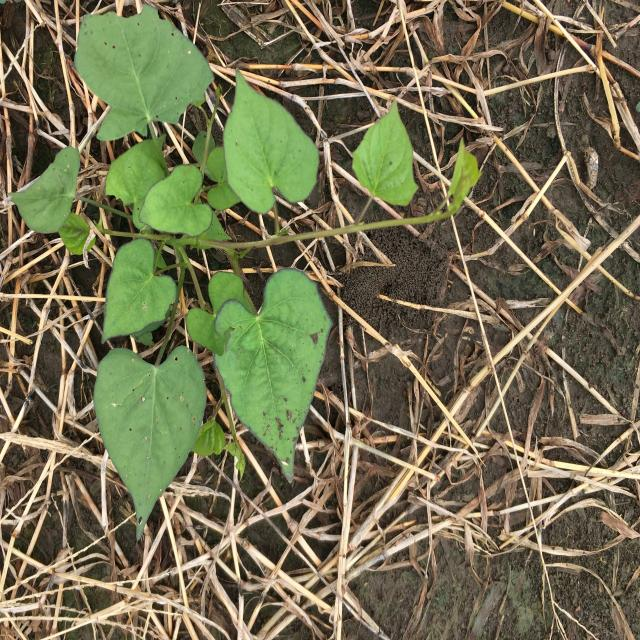MorningGlory: (8, 1, 484, 541)
